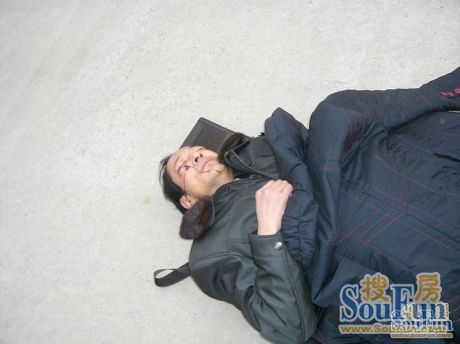falling: (151, 73, 455, 344)
